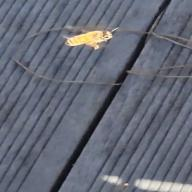Bee: (55, 23, 123, 51)
